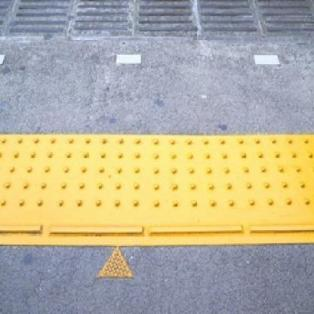Podoctatil: (0, 114, 314, 247)
